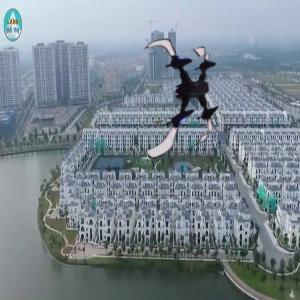drone: (123, 33, 241, 151)
